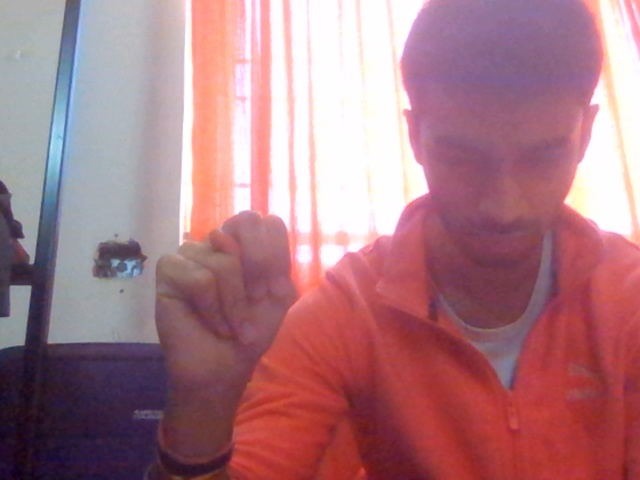N: (143, 216, 318, 428)
